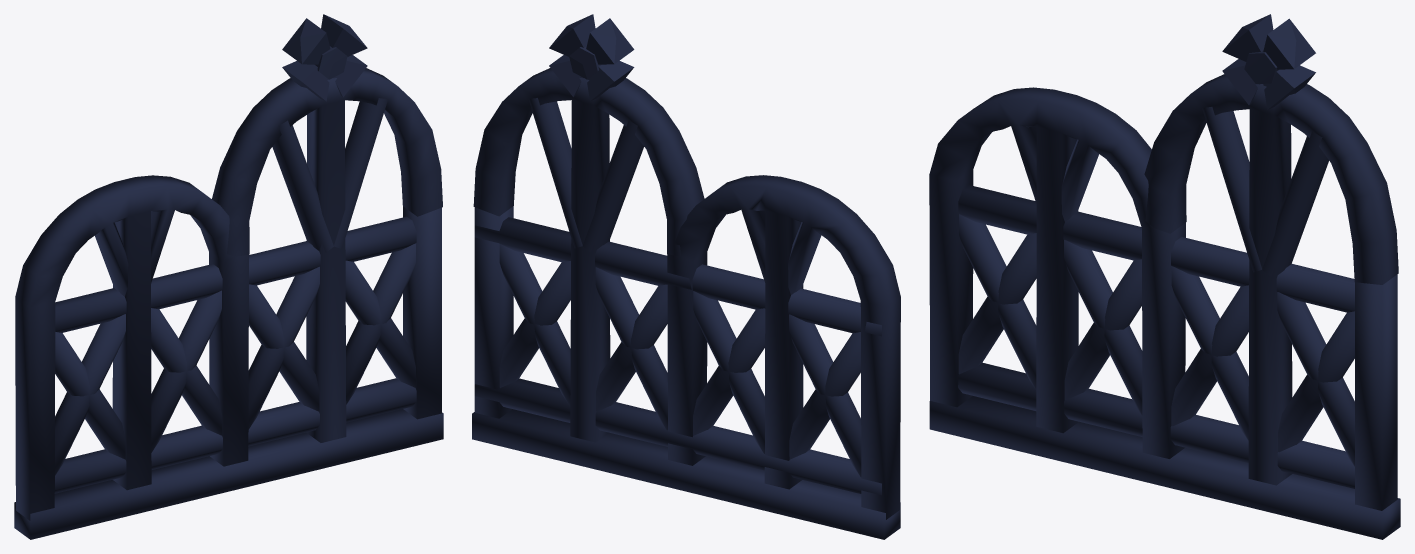
The model's file is Wall.glb.
The picture shows the model from 3 angles, left to right: view 1: azimuth 30°, elevation 25°; view 2: azimuth 150°, elevation 25°; view 3: azimuth 330°, elevation 25°; orthographic projection. The views are drawn at different scales.
Parts seen in each view (by area): view 1: BezierCurve.001; view 2: BezierCurve.001; view 3: BezierCurve.001.
Part boxes in pixels (x1,y1,x2,y2): BezierCurve.001: [14, 14, 443, 539]; BezierCurve.001: [472, 14, 900, 539]; BezierCurve.001: [929, 14, 1400, 539].
Bounding box in the file's own units: 5.77 × 5.83 × 0.4833.
